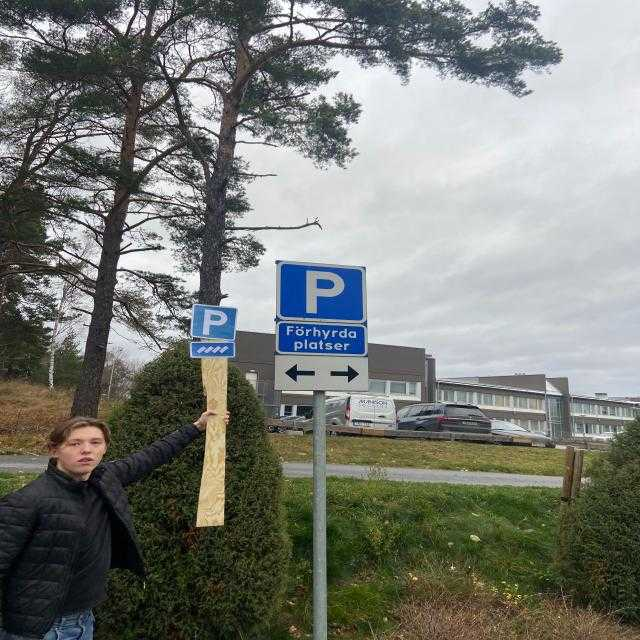psign: (271, 257, 369, 326), (189, 304, 237, 344)
